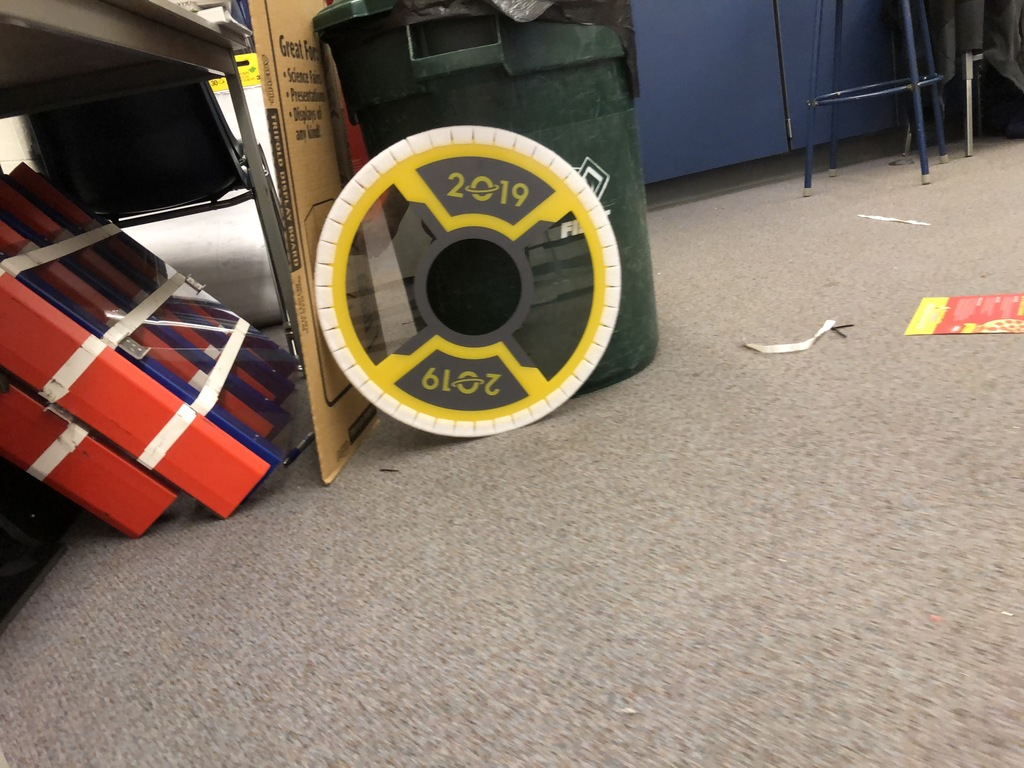hatch_panel: (301, 115, 630, 454)
